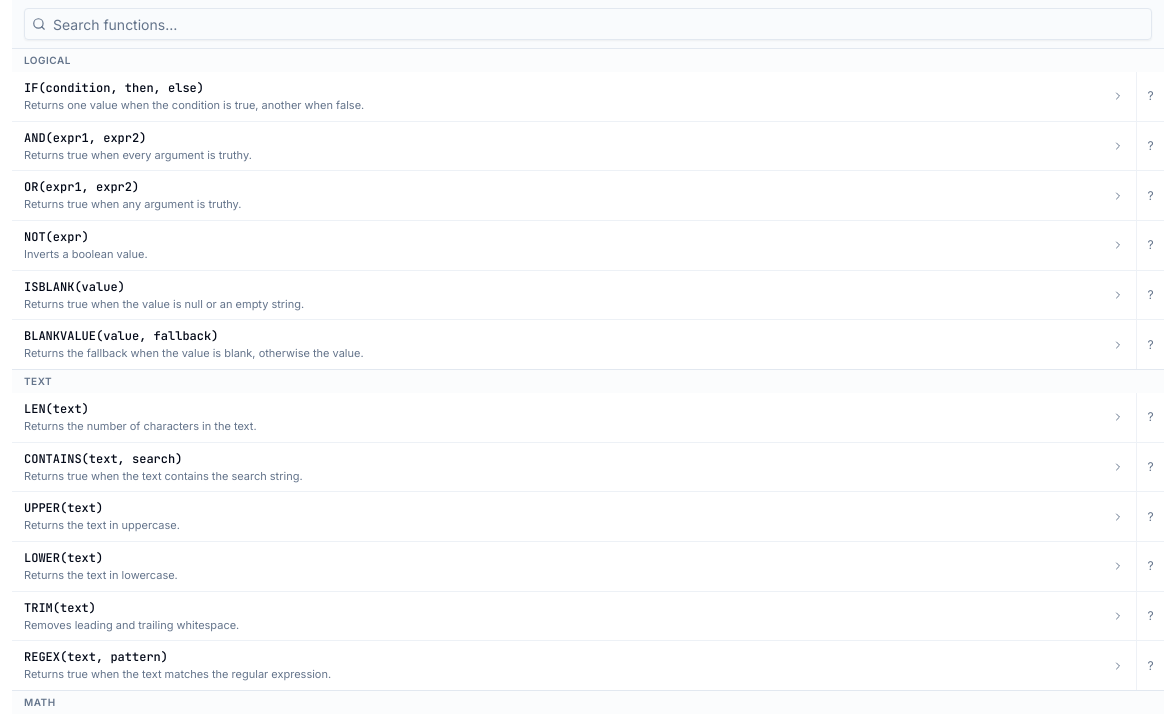
FunctionsTab › filters by name
The image size is (1176, 714).
In the field with placeholder "Search functions…": (588, 24) [24,8,1152,40], type "today"
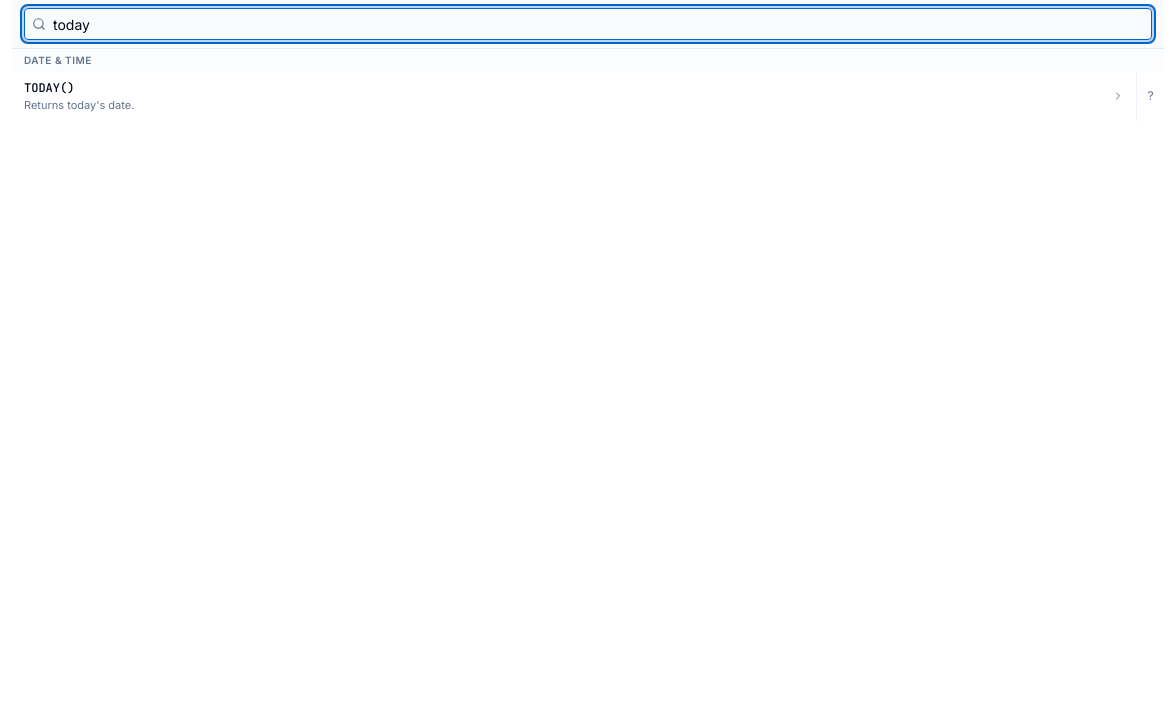
Result: the button with test id "field-expression-picker-functions-fn-TODAY" is shown at [12,72,1136,121]
Result: the button with test id "field-expression-picker-functions-fn-UPPER" is gone
